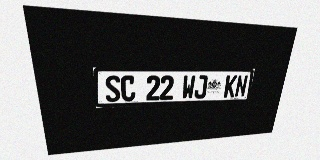2: (146, 75, 160, 101), (160, 75, 174, 100)
C: (120, 75, 135, 101)
J: (194, 75, 208, 99)
K: (223, 75, 237, 98)
N: (234, 75, 248, 97)
S: (105, 75, 121, 102)
W: (182, 75, 196, 99)
